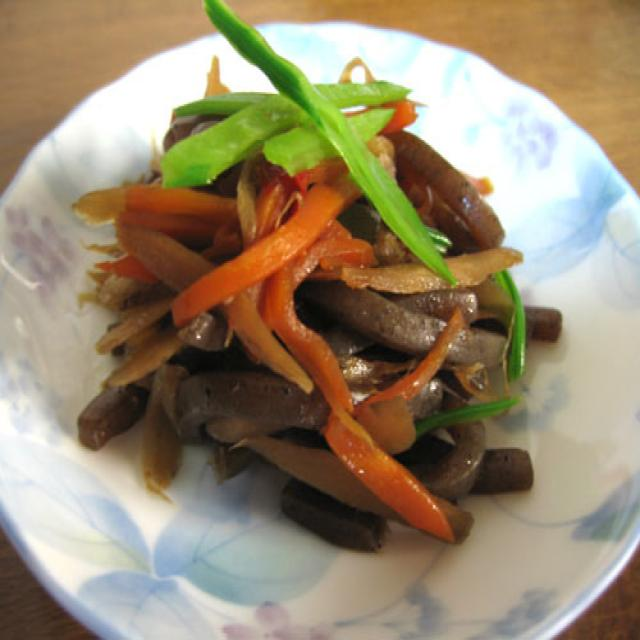蔬菜料理: (36, 0, 587, 563)
